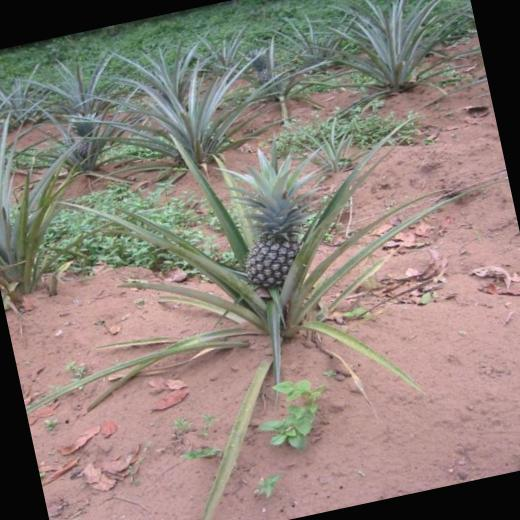Mango: (199, 122, 356, 298), (64, 109, 103, 156), (246, 45, 274, 82)
